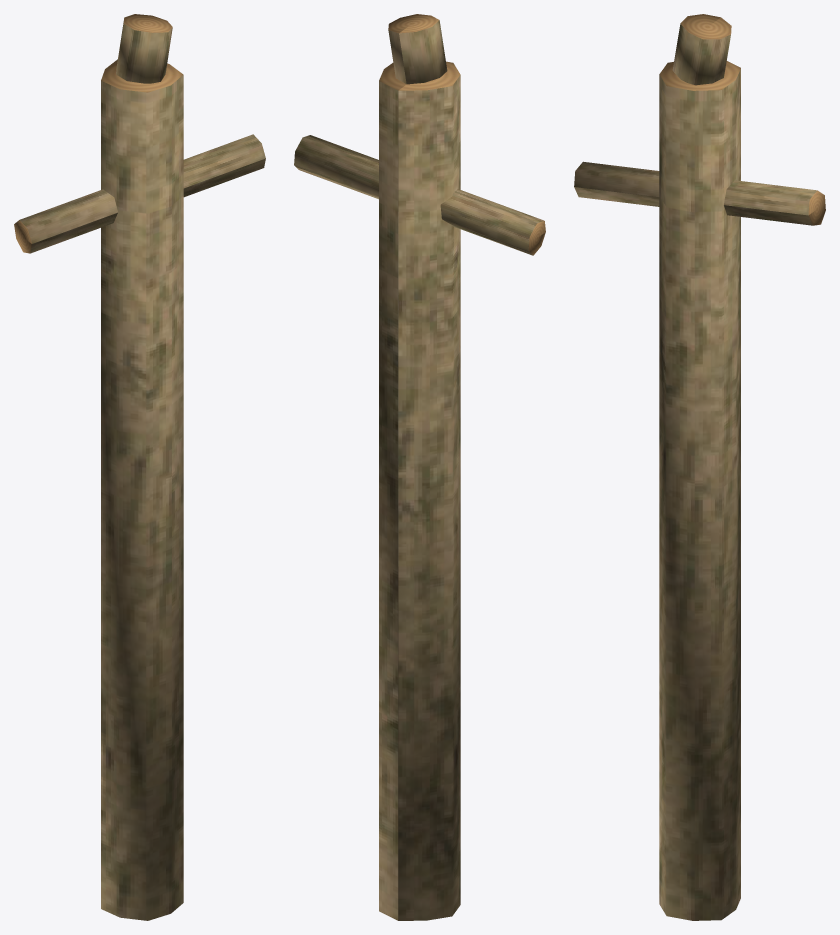
File: junction-post-2.glb
3 renders of one model, left to right at view 1: azimuth 30°, elevation 25°; view 2: azimuth 150°, elevation 25°; view 3: azimuth 330°, elevation 25°, orthographic.
Visible parts, largest first — view 1: junction-post-2; view 2: junction-post-2; view 3: junction-post-2.
Boxes of the visible parts, x1,y1,x2,y2 form: junction-post-2: (14, 14, 265, 920); junction-post-2: (294, 14, 545, 920); junction-post-2: (574, 14, 825, 920).
Size of the model in its own units: 0.6095 by 2.16 by 0.1874.
Materials: 1 (1 with a texture image).
